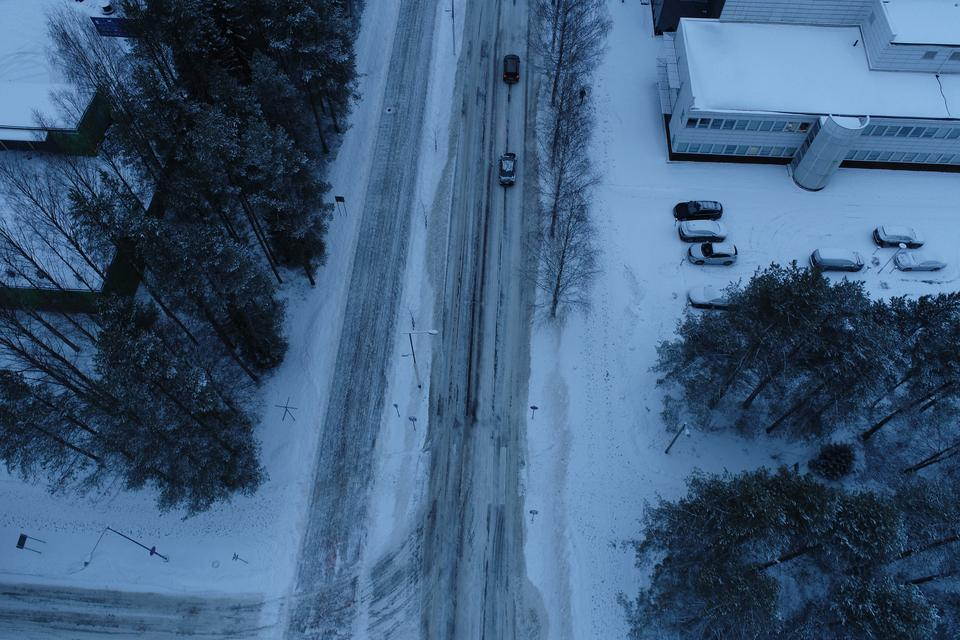intersection: (183, 539, 545, 640)
